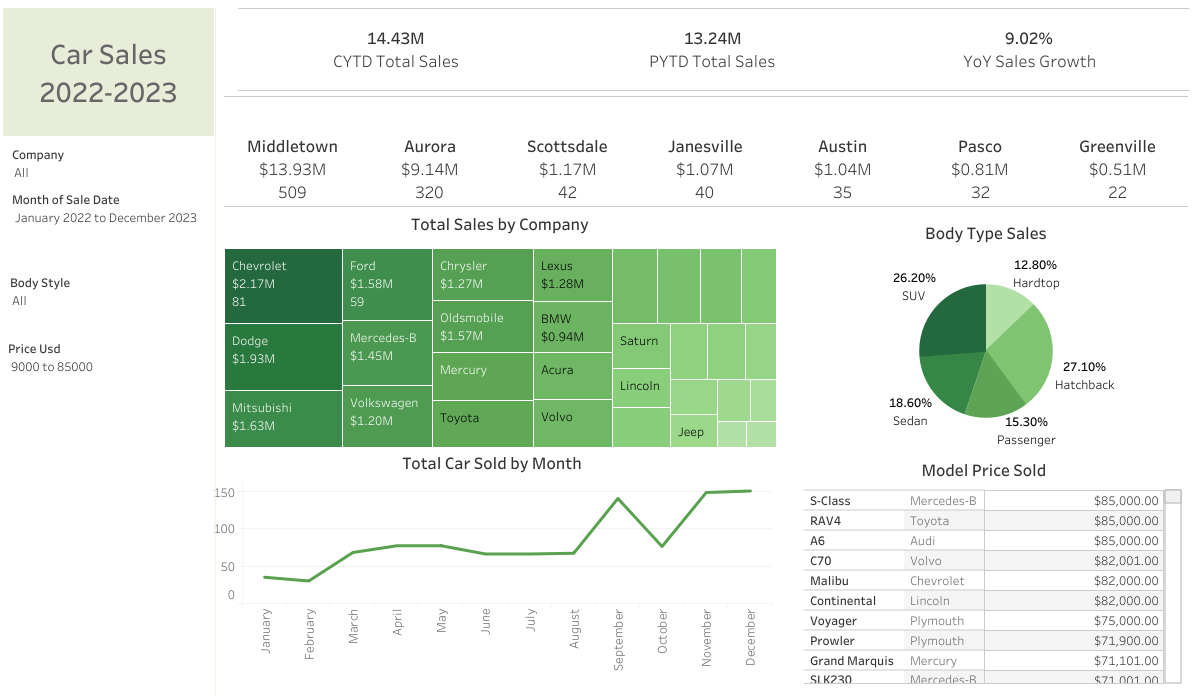

What the dashboard file says about the page in this screenshot:
{"tool":"tableau","page":{"name":"Dashboard 1","canvas":[1200,700],"ordinal":0},"visuals":[{"type":"worksheet","title":"Summary","mark":"Automatic","box":[237.6,7.9,951.6,83.1]},{"type":"text","box":[3,8,211,128]},{"type":"text","box":[215,8,1,688]},{"type":"worksheet","title":"Region","mark":"Automatic","cols":["dealer_region"],"box":[224,96,964,111]},{"type":"filter","title":"Sales","param":"[federated.0dxwcn90ywr8hz163ouc71rrlagc].[none:company:nk]","box":[12,143.5,192,42]},{"type":"filter","title":"Sales","param":"[federated.0dxwcn90ywr8hz163ouc71rrlagc].[tmn:sale_date:qk]","box":[12,189,192,62]},{"type":"worksheet","title":"Sales","mark":"Automatic","box":[220,206,560,246]},{"type":"worksheet","title":"Body","mark":"Pie","box":[786,215.2,399.6,233.6]},{"type":"filter","title":"Sales","param":"[federated.0dxwcn90ywr8hz163ouc71rrlagc].[none:body_style:nk]","box":[10,272,192,49]},{"type":"filter","title":"Sales","param":"[federated.0dxwcn90ywr8hz163ouc71rrlagc].[none:price_usd:qk]","box":[8,338,192,74]},{"type":"worksheet","title":"Month","mark":"Automatic","rows":["Calculation_1125956324376600"],"cols":["sale_date"],"box":[212,445,560,238]},{"type":"worksheet","title":"Price","mark":"Automatic","rows":["model","company"],"box":[804,451.5,378,232.8]}]}

Visuals, with their boxes in screenshot pixels (x1, y1, x2, y2), scaled from the page's 1200x700 canvas onto the 1200x700 screenshot:
"Summary" worksheet: bbox(238, 8, 1189, 91)
text: bbox(3, 8, 214, 136)
text: bbox(215, 8, 216, 696)
"Region" worksheet: bbox(224, 96, 1188, 207)
"Sales" filter: bbox(12, 144, 204, 186)
"Sales" filter: bbox(12, 189, 204, 251)
"Sales" worksheet: bbox(220, 206, 780, 452)
"Body" worksheet (Pie marks): bbox(786, 215, 1186, 449)
"Sales" filter: bbox(10, 272, 202, 321)
"Sales" filter: bbox(8, 338, 200, 412)
"Month" worksheet: bbox(212, 445, 772, 683)
"Price" worksheet: bbox(804, 452, 1182, 684)
